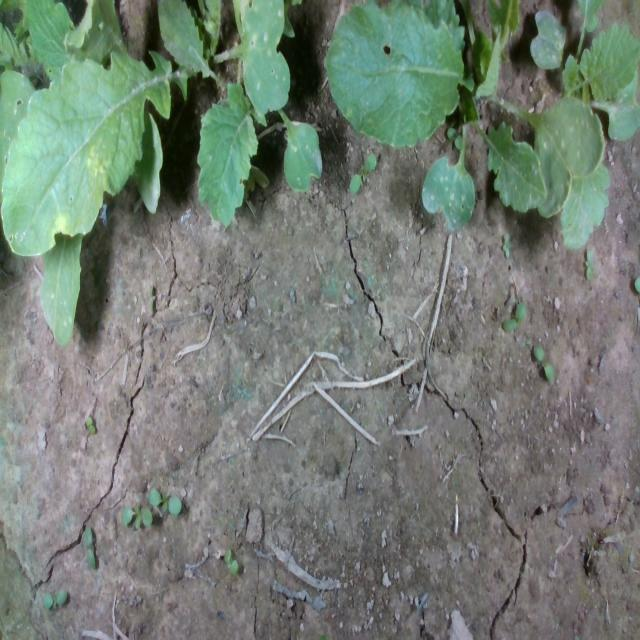weed: (348, 152, 376, 195), (532, 341, 555, 386), (501, 300, 526, 332), (39, 585, 67, 611), (84, 524, 96, 568), (222, 546, 238, 577), (584, 247, 592, 283), (84, 414, 95, 436), (500, 241, 510, 258)
